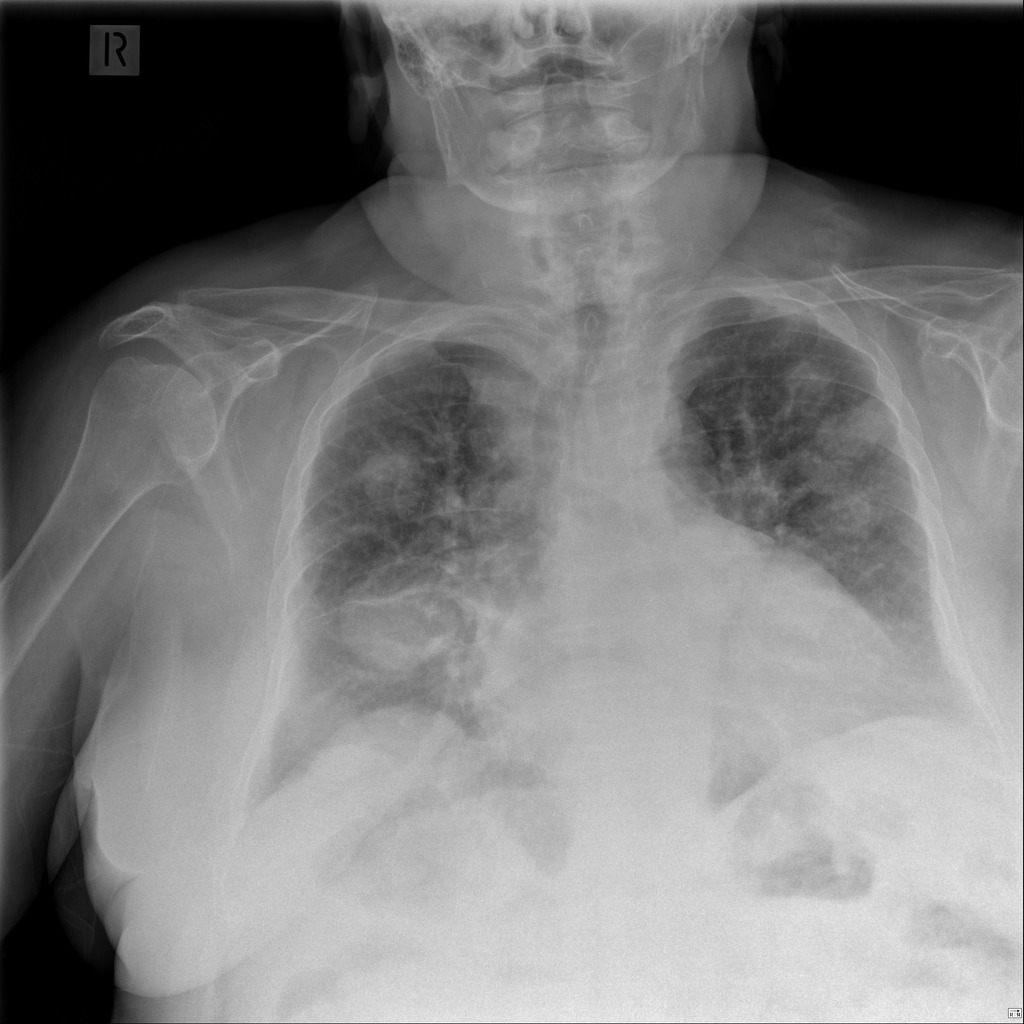cancer: (285, 332, 522, 774), (666, 299, 933, 639)
